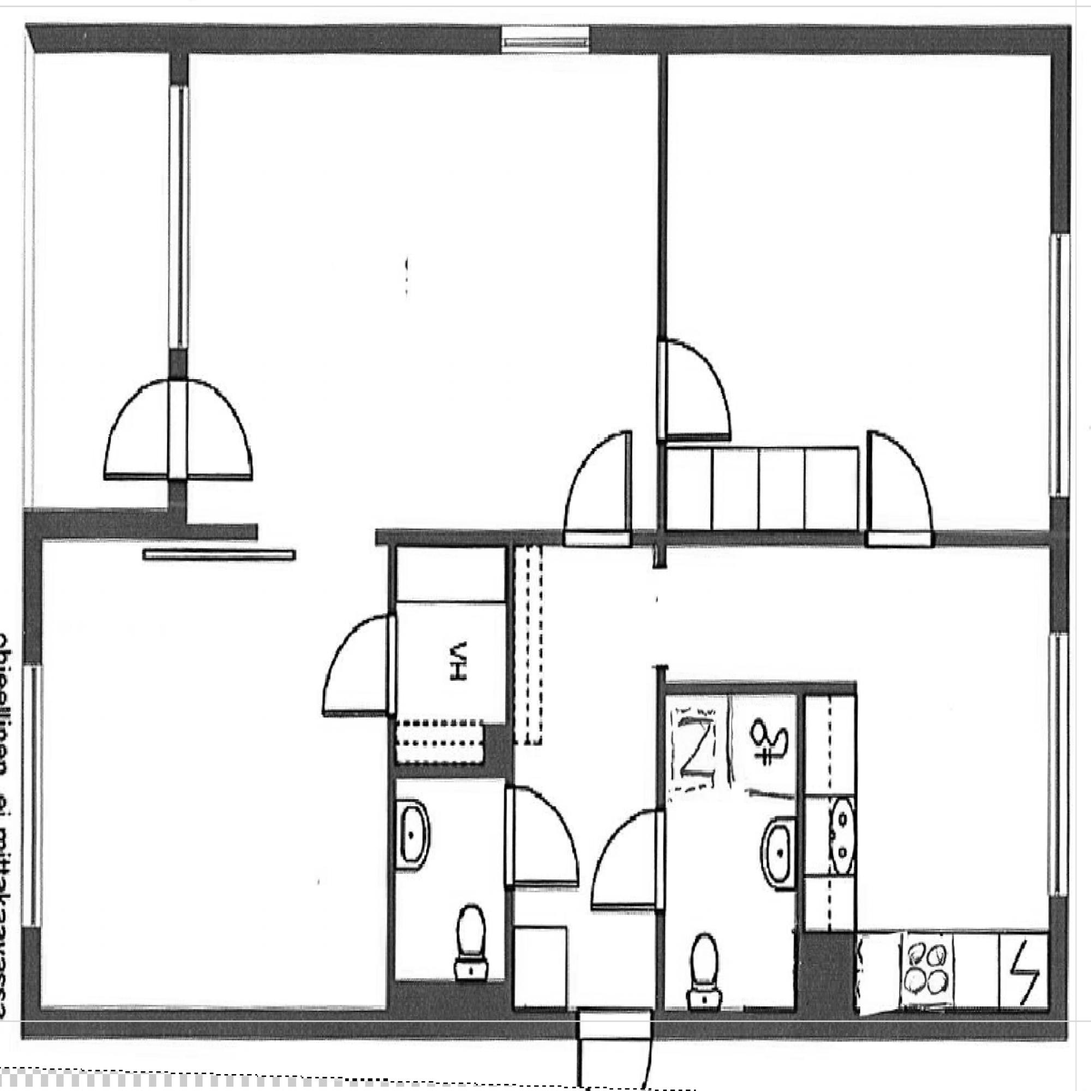wall: (167, 23, 1070, 56), (1050, 23, 1071, 1042), (167, 24, 191, 541), (375, 524, 1070, 541), (22, 1010, 386, 1042), (22, 511, 42, 1042), (515, 1009, 795, 1042), (386, 982, 515, 1042), (855, 1011, 1070, 1042), (795, 934, 855, 1042), (656, 24, 666, 568), (22, 512, 191, 541), (22, 24, 191, 52), (387, 524, 396, 1042), (506, 524, 515, 1042), (656, 667, 666, 1042), (795, 680, 805, 1042), (656, 681, 857, 696), (485, 723, 515, 778), (386, 763, 484, 779), (167, 524, 257, 541)
